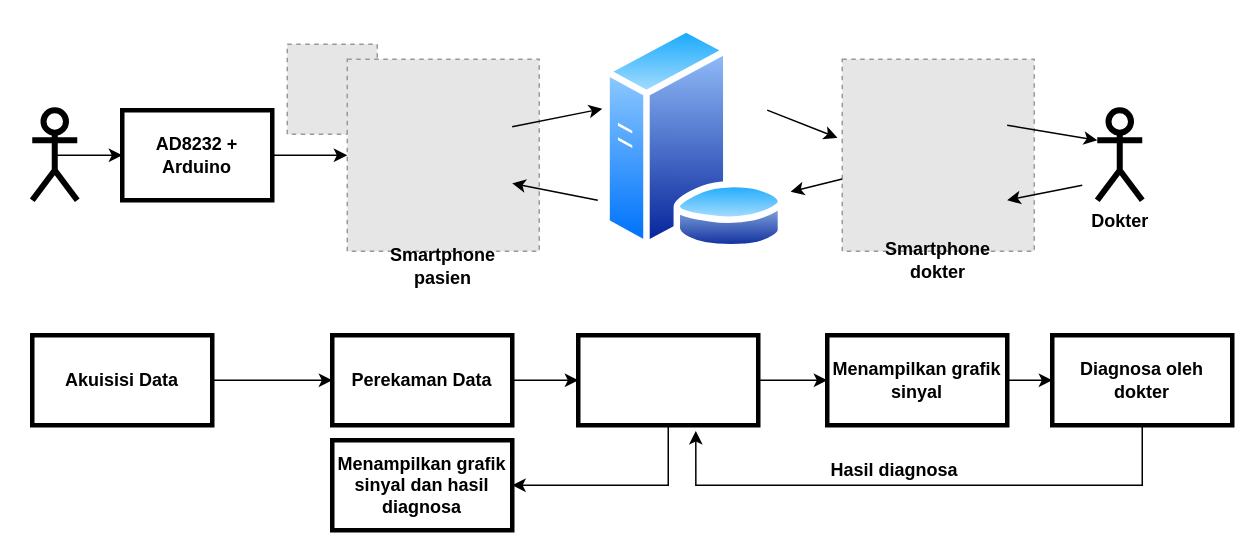
The diagram is 1260 pixels wide and 558 high, and some of its shapes have lost their labels. Grey dashed boxes stand in for pictures. The centre of each missing label's shape, as x and y in pixels:
"Database server" belongs at (x=694, y=138).
"Pasien" belongs at (x=54, y=154).
"Penyimpanan Data" belongs at (x=667, y=379).
